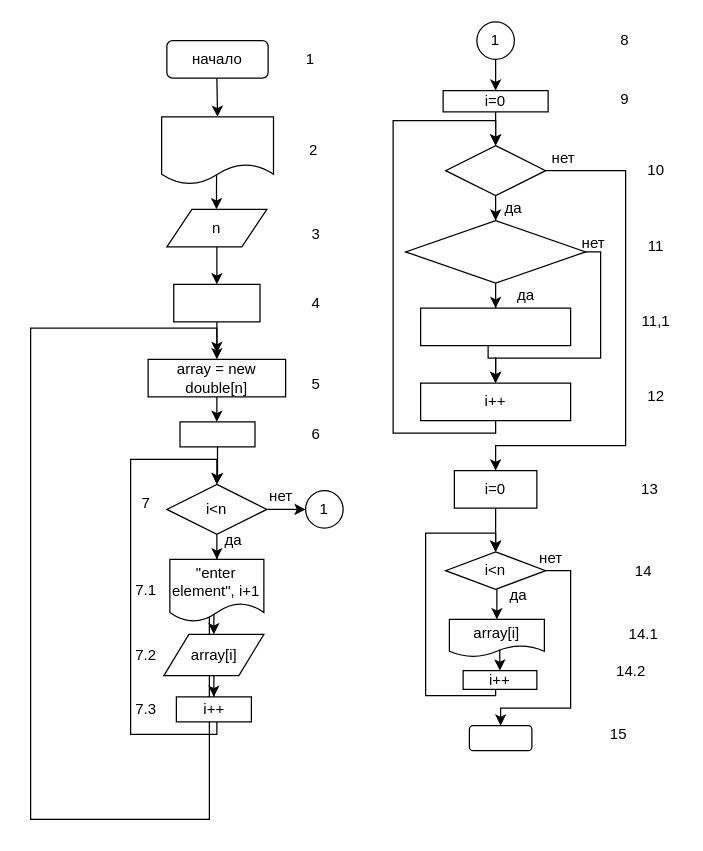
Some shapes in this 703 by 851 pixel diagram are drawn without their labels. Here are the shapes that lost their labels. From the top down, the centre of each, then its label:
point 217,150: "Enter number of elements "
point 495,170: i+1<n
point 495,251: array[i] * array[i + 1] > 0
point 216,302: x = 999
point 495,326: array = insert(array, n, i + 1, x)
point 217,434: i = 0
point 500,737: конец
